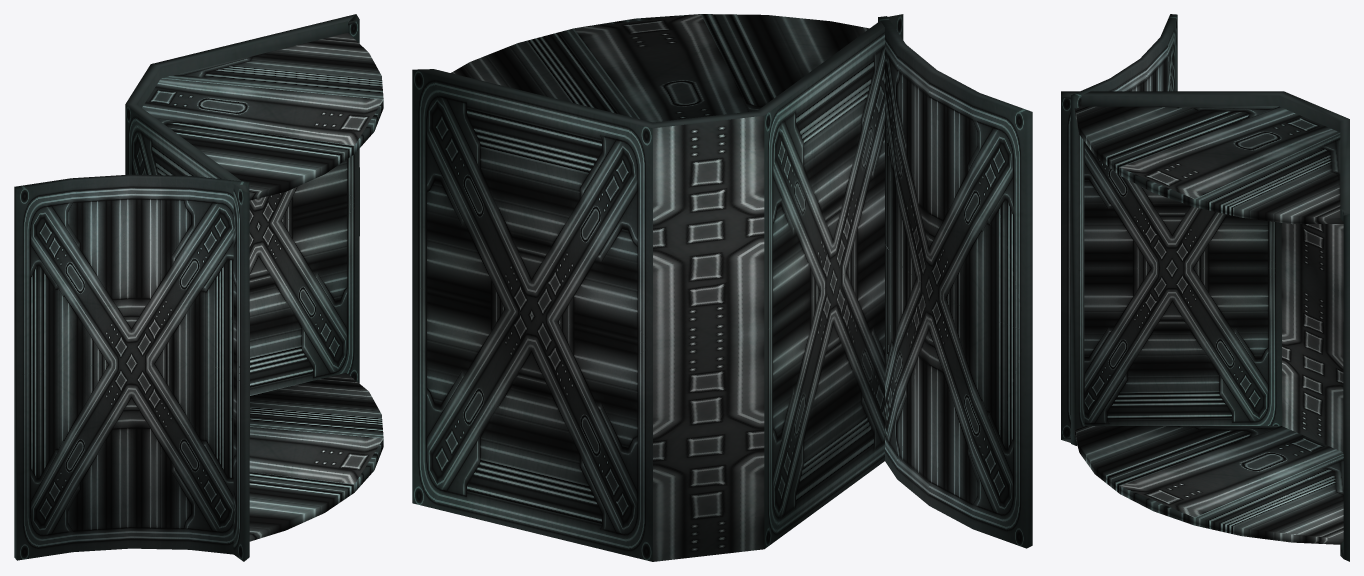
The model's file is Container_Open1.fbx.
3 renders of one model, left to right at view 1: azimuth 30°, elevation 25°; view 2: azimuth 150°, elevation 25°; view 3: azimuth 270°, elevation 25°, orthographic. The views are drawn at different scales.
Visible parts, largest first — view 1: Open Container2; view 2: Open Container2; view 3: Open Container2.
Boxes of the visible parts, x1=… form: Open Container2: x1=14, y1=14, x2=383, y2=561; Open Container2: x1=412, y1=14, x2=1032, y2=561; Open Container2: x1=1061, y1=14, x2=1349, y2=561.
Size of the model in its own units: 281 by 229 by 172.
